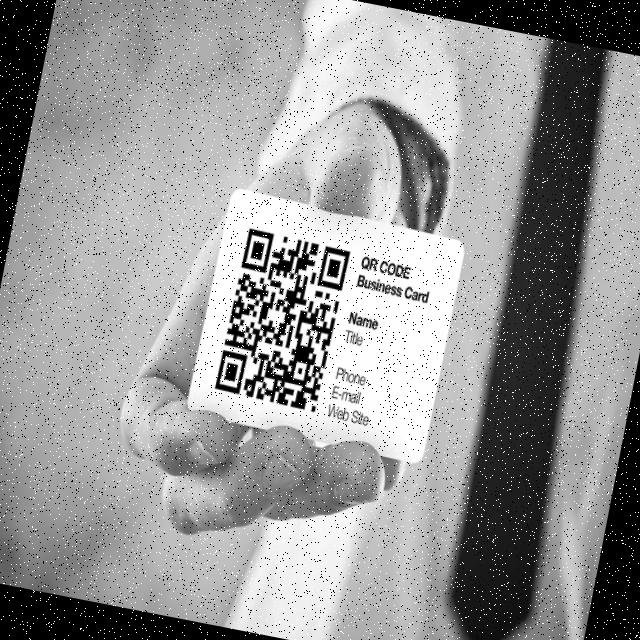QR-codes: (212, 224, 350, 412)
